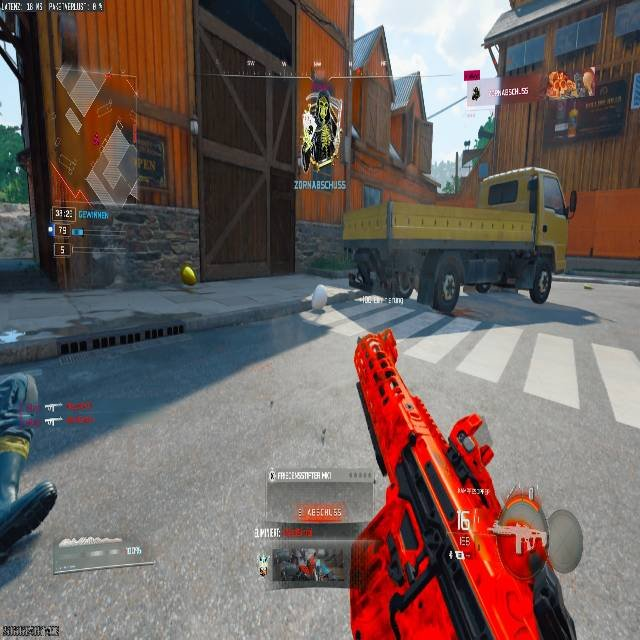player: (302, 85, 338, 174)
